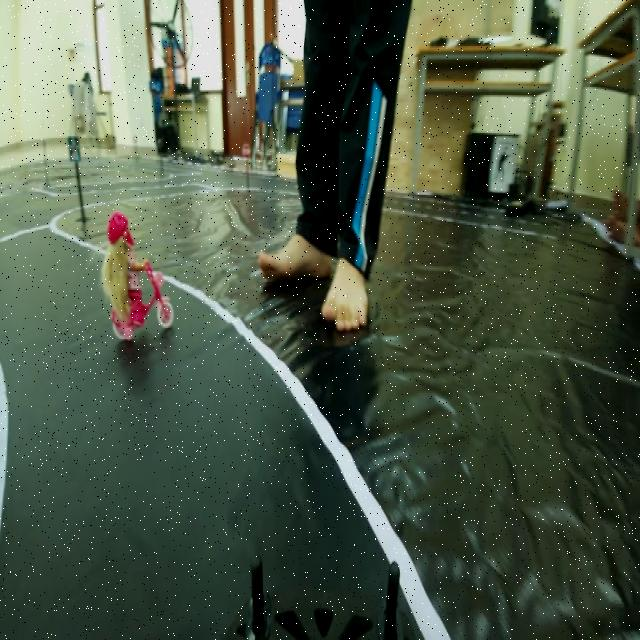pedestrian: (87, 210, 178, 344)
